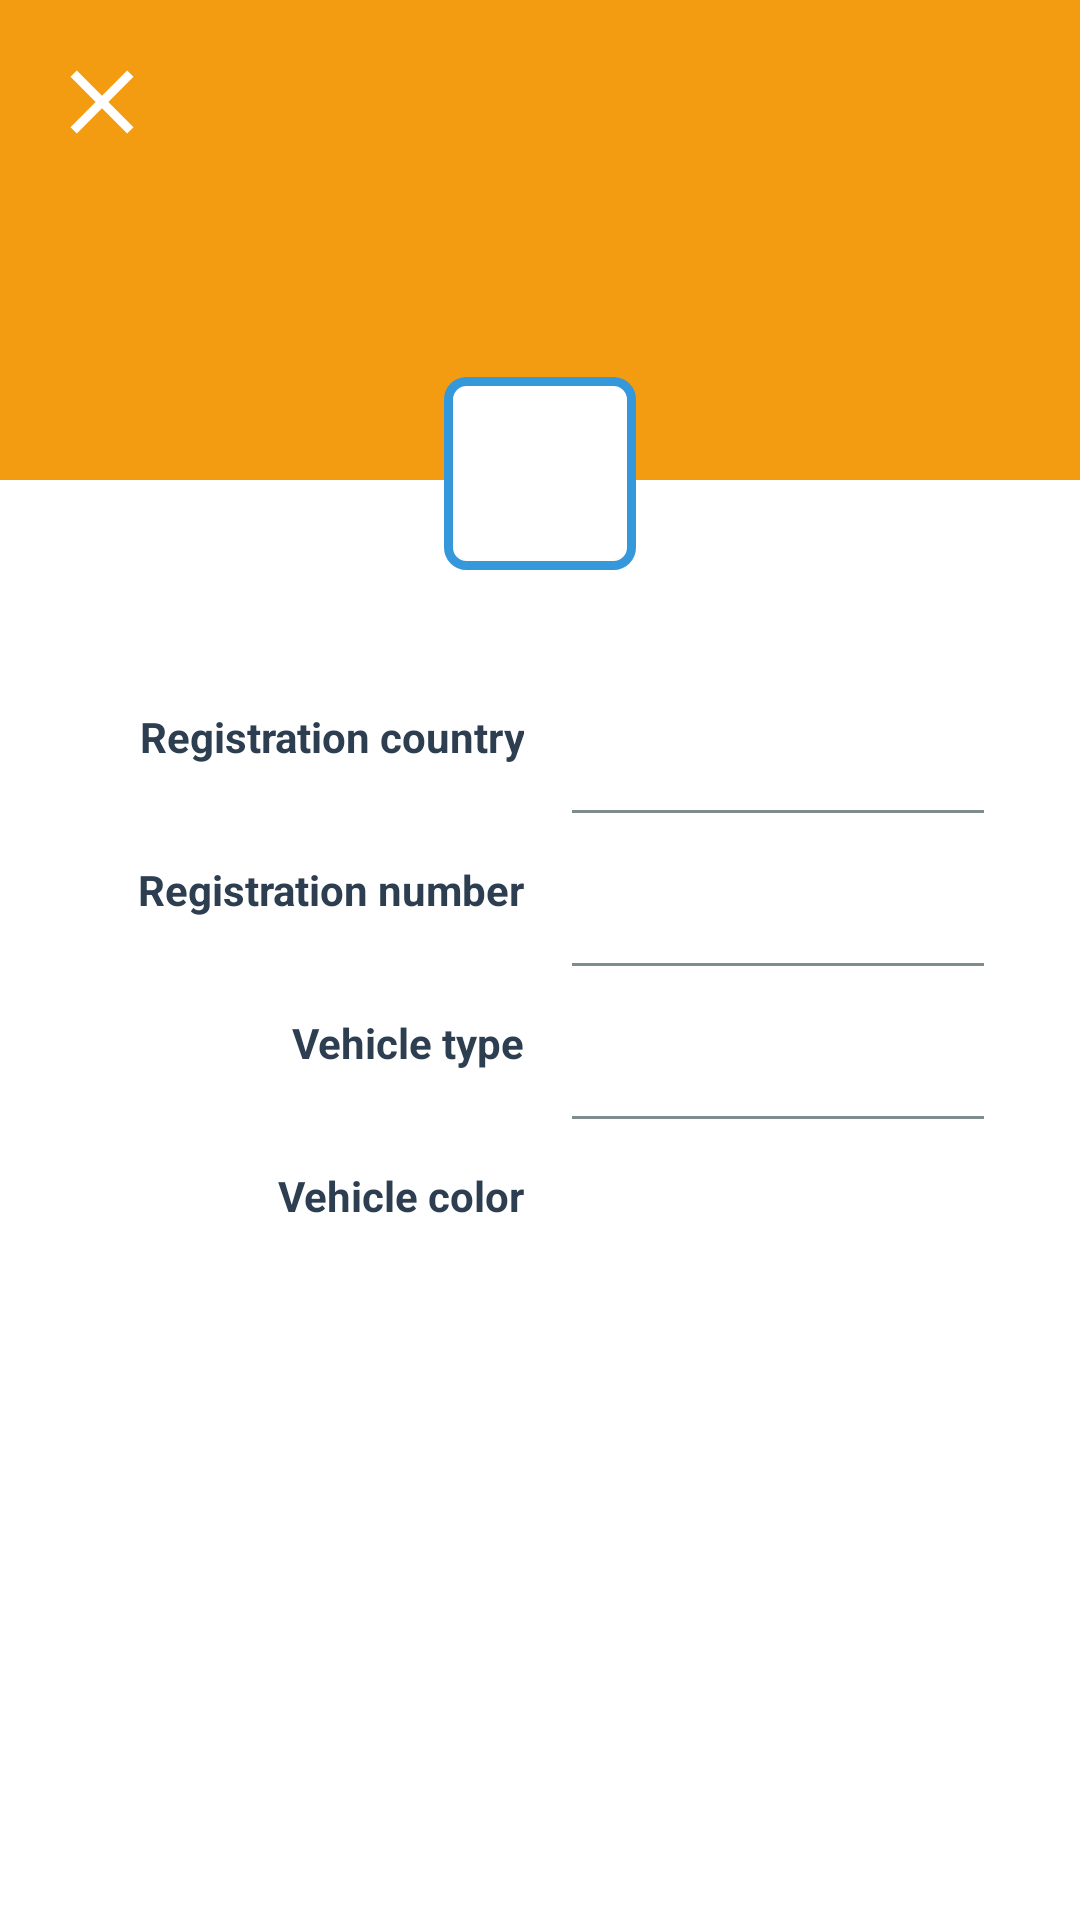

Named icons in this screenshot (1080 × 1920) and their bounding boxes, Rect(x1, y1, x2, y2):
close: Rect(70, 70, 134, 134)
